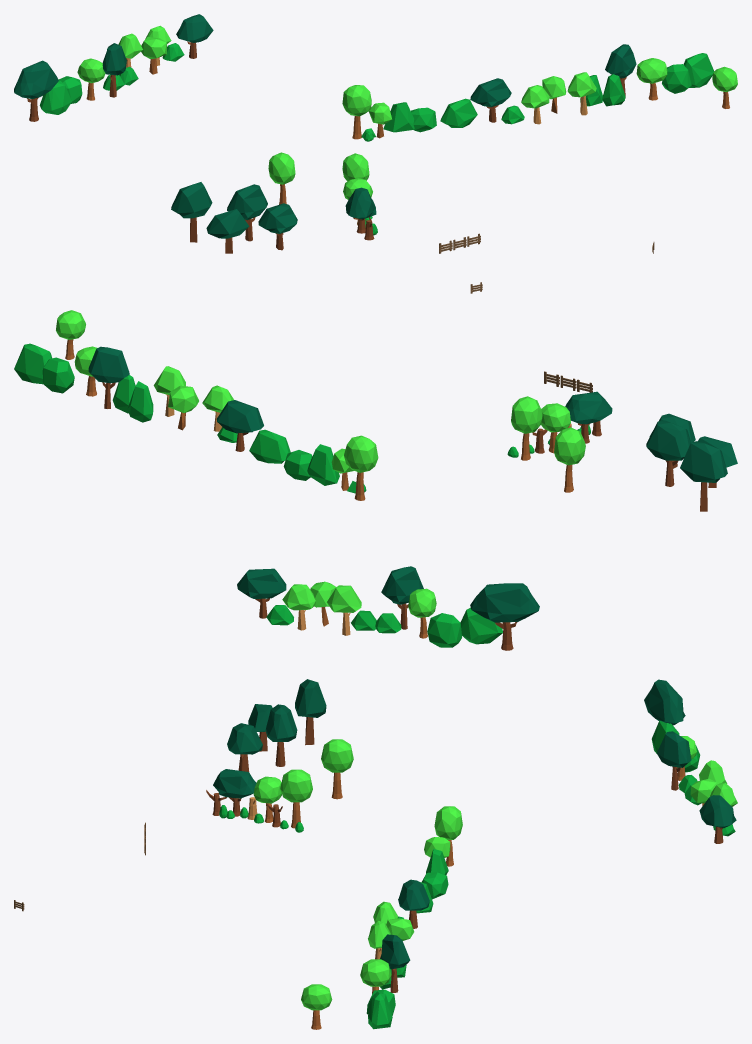
The model's file is Level2WorldZone1.glb.
The picture shows the model from 3 angles, top to bottom: view 1: azimuth 30°, elevation 25°; view 2: azimuth 150°, elevation 25°; view 3: azimuth 270°, elevation 25°; orthographic projection. The views are drawn at different scales.
Parts seen in each view (by area): view 1: barrier_group_3, barrier_group_1, barrier_group_7, barrier_group_2, door_barrier_1, barrier_group_4, Trunk_3.010, Trunk_3.009, barrier_group_3.001, Trunk_3.004, Trunk_3.008, barrier_group_5.001 (+6 smaller); view 2: barrier_group_7, door_barrier_1, barrier_group_2, barrier_group_1, barrier_group_3, barrier_group_4, barrier_group_1.001, barrier_group_3.001, Trunk_3.010, Trunk_3.009, barrier_group_5.001, barrier_group_6.001 (+3 smaller); view 3: door_barrier_1, barrier_group_1, barrier_group_2, barrier_group_7, barrier_group_3, Trunk_3.010, Trunk_3.009, barrier_group_4, Trunk_1.003, barrier_group_6.001, Trunk_3.008, barrier_group_5.001 (+4 smaller).
Boxes of the visible parts, box(x1,y1,x2,y2) form: barrier_group_3: box(440, 78, 549, 127); barrier_group_1: box(342, 85, 436, 139); barrier_group_7: box(14, 60, 82, 121); barrier_group_2: box(605, 44, 714, 97); door_barrier_1: box(342, 132, 377, 240); barrier_group_4: box(542, 72, 625, 115); Trunk_3.010: box(171, 182, 212, 242); Trunk_3.009: box(227, 184, 267, 241); barrier_group_3.001: box(77, 58, 138, 100); Trunk_3.004: box(206, 209, 249, 253); Trunk_3.008: box(258, 203, 297, 250); barrier_group_5.001: box(176, 14, 213, 58); barrier_group_7: box(427, 583, 539, 650); door_barrier_1: box(363, 391, 612, 492); barrier_group_2: box(14, 343, 129, 408); barrier_group_1: box(283, 435, 378, 500); barrier_group_3: box(202, 385, 290, 463); barrier_group_4: box(112, 366, 198, 430); barrier_group_1.001: box(282, 584, 361, 635); barrier_group_3.001: box(351, 588, 436, 638); Trunk_3.010: box(680, 441, 727, 511); Trunk_3.009: box(646, 420, 691, 486); barrier_group_5.001: box(237, 568, 286, 618); barrier_group_6.001: box(381, 566, 423, 629); door_barrier_1: box(206, 769, 312, 832); barrier_group_1: box(421, 806, 462, 899); barrier_group_2: box(366, 934, 410, 1029); barrier_group_7: box(644, 679, 700, 772); barrier_group_3: box(373, 879, 433, 928); Trunk_3.010: box(295, 679, 326, 745); Trunk_3.009: box(265, 704, 297, 766); barrier_group_4: box(368, 918, 414, 989); Trunk_1.003: box(321, 739, 353, 799); barrier_group_6.001: box(657, 731, 691, 790); Trunk_3.008: box(227, 723, 262, 771); barrier_group_5.001: box(699, 795, 736, 843).
Size of what is drawn, in the model's own units: 77.18 by 7.54 by 77.54.
2 materials, 2 textured.
